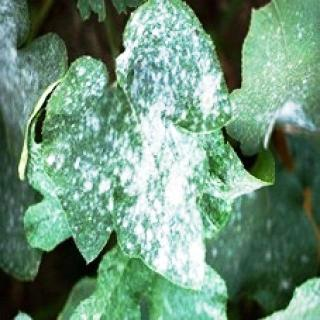grey mildew: (32, 7, 255, 287)
